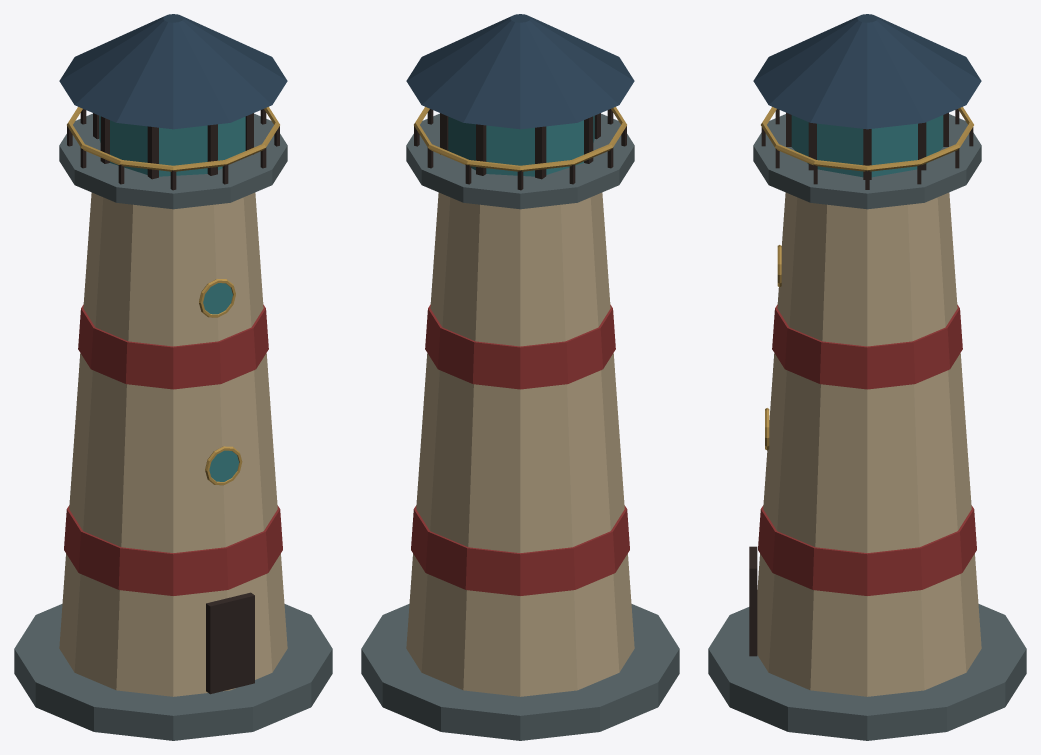
File: PirateCove_Lighthouse_Standard.glb
3 renders of one model, left to right at view 1: azimuth 30°, elevation 25°; view 2: azimuth 150°, elevation 25°; view 3: azimuth 270°, elevation 25°, orthographic.
Visible parts, largest first — view 1: PirateCove_Lighthouse_Standard; view 2: PirateCove_Lighthouse_Standard; view 3: PirateCove_Lighthouse_Standard.
Part boxes in pixels (left/top/right/bottom): PirateCove_Lighthouse_Standard: left=14, top=14, right=332, bottom=740; PirateCove_Lighthouse_Standard: left=361, top=14, right=679, bottom=740; PirateCove_Lighthouse_Standard: left=708, top=14, right=1026, bottom=740.
Bounding box in the file's own units: 4.6 × 10.45 × 4.6.
